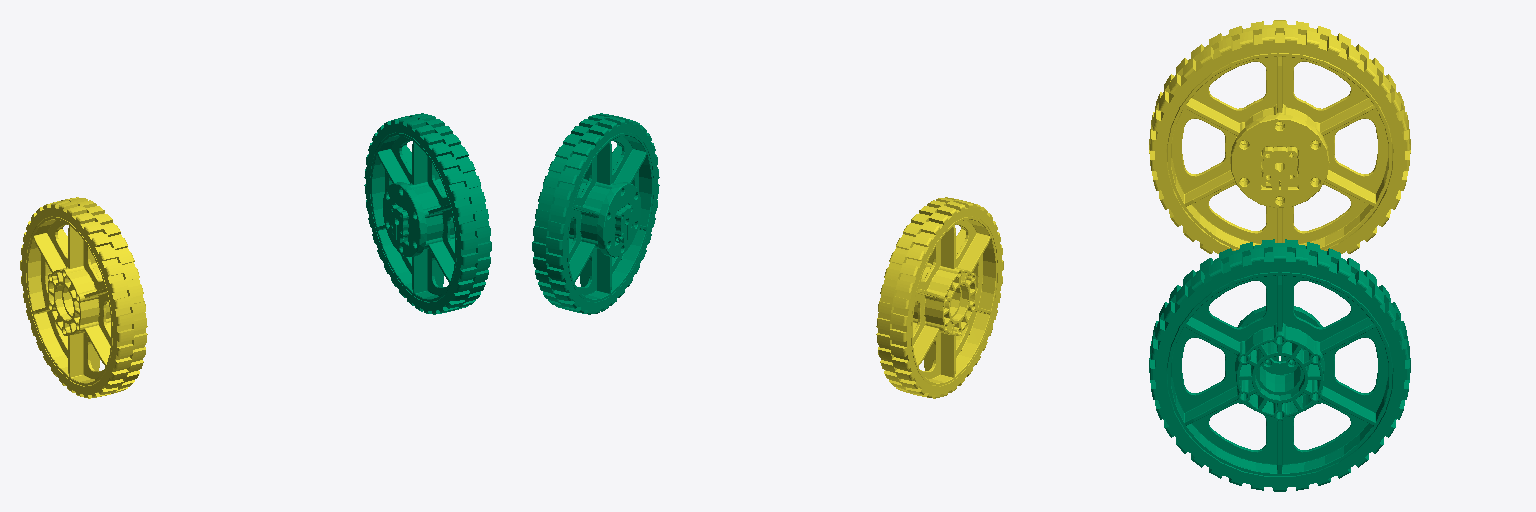
The robot description file, URDF, robot "open_abcrover":
<robot name="open_abcrover">
    <link name="base_footprint"/>

    <joint name="base_joint" type="fixed">
        <origin xyz="0 0 0.1332"/>
        <parent link="base_footprint"/>
        <child link="base_frame"/>
    </joint>

    <link name="base_frame">
        <visual>
            <geometry>
                <mesh filename="package://open_abcrover/description/meshes/base_frame_indoor.stl"/>
            </geometry>
        </visual>
        <collision>
            <geometry>
                <box size="0.293 0.337 0.241"/>
            </geometry>
        </collision>
        <inertial>
            <mass value="3.258"/>
            <inertia ixx="0.026" ixy="-1.421e-4" ixz="1.997e-5" iyy="0.02" iyz="0.005" izz="0.032"/>
        </inertial>
    </link>

    <joint name="base_to_leftwheel" type="continuous">
        <origin xyz="0.1235 -0.0488 -0.057"/>
        <axis xyz="1 0 0"/>
        <parent link="base_frame"/>
        <child link="left_wheel"/>
    </joint>

    <link name="left_wheel">
        <visual>
            <geometry>
                <mesh filename="package://open_abcrover/description/meshes/wheel_left.stl"/>
            </geometry>
        </visual>
        <collision>
            <geometry>
                <box size="0.045 0.152 0.152"/>
            </geometry>
        </collision>
        <inertial>
            <mass value="0.216"/>
            <inertia ixx="7.441e-4" ixy="-1.139e-8" ixz="5.172e-8" iyy="5.313e-4" iyz="4.204e-8" izz="5.311e-04"/>
        </inertial>
    </link>

    <joint name="base_to_rightwheel" type="continuous">
        <origin xyz="-0.1235 -0.0488 -0.057"/>
        <axis xyz="1 0 0"/>
        <parent link="base_frame"/>
        <child link="right_wheel"/>
    </joint>

    <link name="right_wheel">
        <visual>
            <geometry>
                <mesh filename="package://open_abcrover/description/meshes/wheel_right.stl"/>
            </geometry>
        </visual>
        <collision>
            <geometry>
                <box size="0.045 0.152 0.152"/>
            </geometry>
        </collision>
        <inertial>
            <mass value="0.216"/>
            <inertia ixx="7.441e-4" ixy="-1.139e-8" ixz="-5.172e-8" iyy="5.313e-4" iyz="-4.204e-8" izz="5.311e-04"/>
        </inertial>
    </link>
</robot>

--- What the picture shows (computed from the rendered views, not written in the file) ---
The picture shows the robot from 3 angles, left to right: view 1: azimuth 30°, elevation 25°; view 2: azimuth 150°, elevation 25°; view 3: azimuth 270°, elevation 25°; orthographic projection.
Model open_abcrover with 4 links and 3 joints (2 continuous, 1 fixed), rooted at base_footprint, posed all joints at 0.
Visible links, largest first — view 1: left_wheel, right_wheel; view 2: left_wheel, right_wheel; view 3: left_wheel, right_wheel.
Boxes of the visible links, x1,y1,x2,y2 form: left_wheel: [364, 113, 491, 314]; right_wheel: [20, 197, 147, 398]; left_wheel: [532, 113, 659, 314]; right_wheel: [876, 197, 1003, 398]; left_wheel: [1149, 239, 1410, 491]; right_wheel: [1149, 20, 1410, 253].
Bounding box of the posed robot: 0.3368 × 0.1524 × 0.1524 m (x, y, z).
Meshes: 3 distinct files referenced, 2 mesh visuals loaded (2 binary STL); not drawn: 1 (reference not matched to a file when rendering).